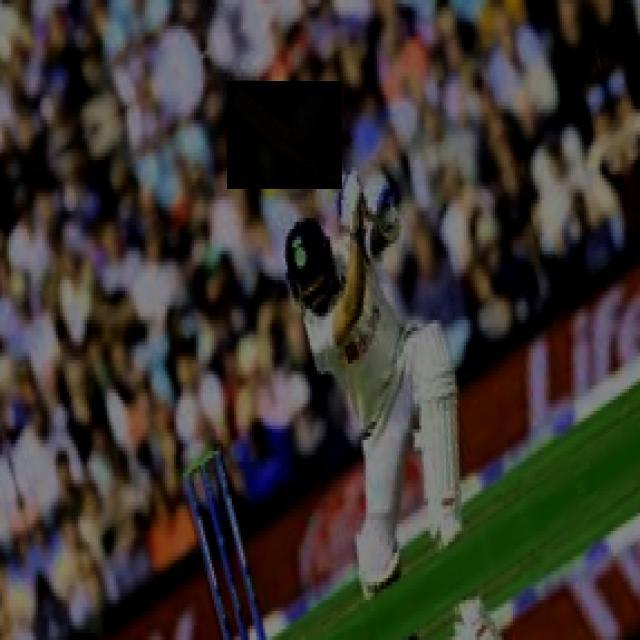bat: (228, 83, 350, 185)
